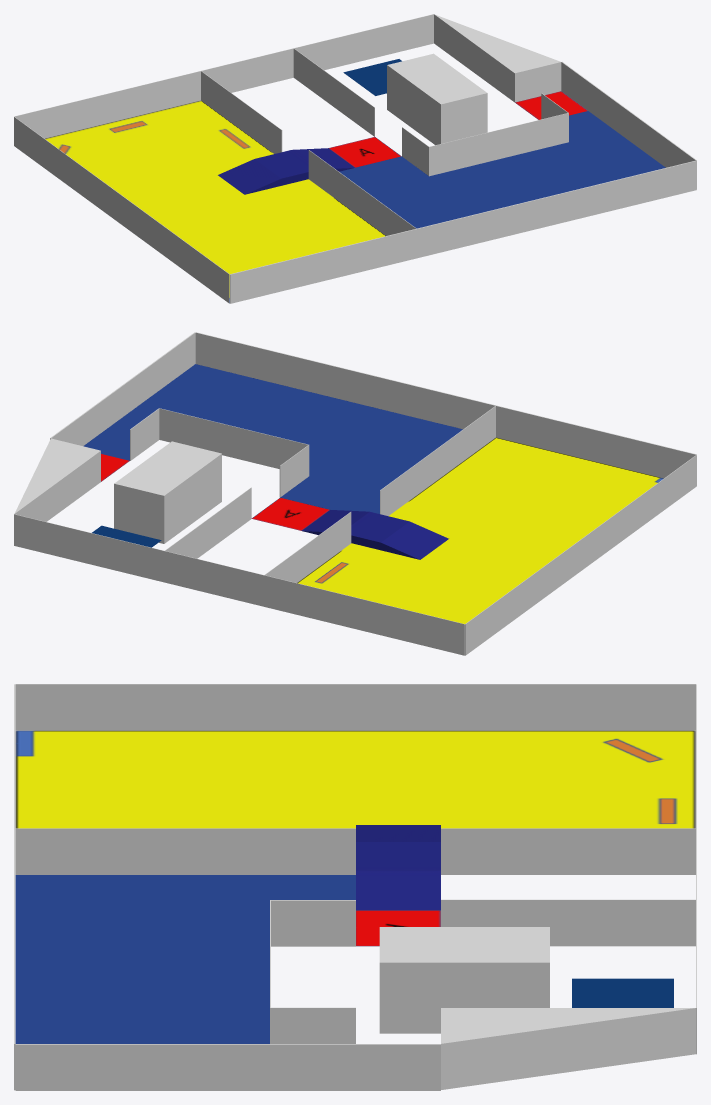
The picture shows the model from 3 angles, top to bottom: view 1: azimuth 30°, elevation 25°; view 2: azimuth 150°, elevation 25°; view 3: azimuth 270°, elevation 25°; orthographic projection. The views are drawn at different scales.
Parts seen in each view (by area): view 1: supplies_zone, T形墙1, T形墙2, 巡线区, 墙4, 墙6, 墙7, 墙1, 墙5, 坡道, 机器人启动区, B_zone (+2 smaller); view 2: supplies_zone, 巡线区, T形墙2, T形墙1, 墙4, 墙6, 墙7, 墙1, 墙5, 坡道, 机器人启动区, 墙2 (+2 smaller); view 3: supplies_zone, 巡线区, 墙6, T形墙2, 墙5, T形墙1, 墙7, 墙4, 坡道, 墙3, 墙2, B_zone (+1 smaller).
Part boxes in pixels (bbox=[...]): supplies_zone: bbox=[45, 100, 385, 303]; T形墙1: bbox=[230, 150, 696, 303]; T形墙2: bbox=[14, 14, 433, 153]; 巡线区: bbox=[339, 111, 665, 228]; 墙4: bbox=[387, 53, 487, 145]; 墙6: bbox=[14, 116, 229, 303]; 墙7: bbox=[434, 14, 561, 102]; 墙1: bbox=[428, 113, 568, 176]; 墙5: bbox=[561, 61, 696, 189]; 坡道: bbox=[218, 148, 354, 194]; 机器人启动区: bbox=[328, 137, 401, 167]; B_zone: bbox=[343, 59, 401, 95]; supplies_zone: bbox=[297, 437, 663, 623]; 巡线区: bbox=[83, 364, 462, 513]; T形墙2: bbox=[14, 487, 464, 655]; T形墙1: bbox=[195, 332, 696, 515]; 墙4: bbox=[114, 441, 221, 543]; 墙6: bbox=[465, 455, 696, 655]; 墙7: bbox=[14, 438, 100, 521]; 墙1: bbox=[159, 408, 309, 475]; 墙5: bbox=[50, 332, 195, 445]; 坡道: bbox=[302, 510, 448, 559]; 机器人启动区: bbox=[251, 497, 329, 530]; 墙2: bbox=[130, 408, 159, 460]; supplies_zone: bbox=[15, 730, 695, 828]; 巡线区: bbox=[15, 875, 355, 1043]; 墙6: bbox=[15, 684, 695, 730]; T形墙2: bbox=[441, 684, 696, 1054]; 墙5: bbox=[15, 1044, 440, 1090]; T形墙1: bbox=[14, 684, 355, 1090]; 墙7: bbox=[441, 1008, 695, 1089]; 墙4: bbox=[379, 927, 549, 1033]; 坡道: bbox=[356, 825, 440, 910]; 墙3: bbox=[271, 900, 355, 946]; 墙2: bbox=[271, 1007, 355, 1043]; B_zone: bbox=[572, 978, 673, 1007].
Size of the model in its own units: 5.02 by 4.02 by 0.46.
9 materials, 4 textured.
